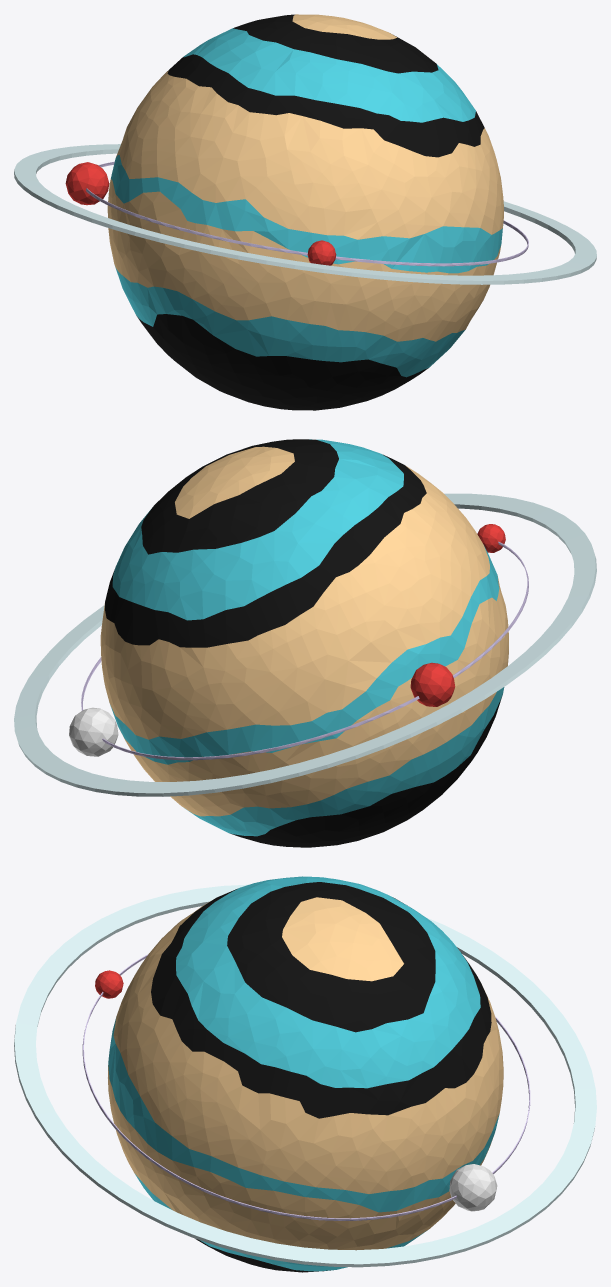
The model's file is Planet_24.glb.
3 views of the same model, one above another, from view 1: azimuth 30°, elevation 25°; view 2: azimuth 150°, elevation 25°; view 3: azimuth 270°, elevation 25° (orthographic). The views are drawn at different scales.
Parts seen in each view (by area): view 1: Planet_24; view 2: Planet_24; view 3: Planet_24.
Part boxes in pixels (bbox=[...]): Planet_24: bbox=[14, 14, 596, 410]; Planet_24: bbox=[14, 439, 596, 847]; Planet_24: bbox=[14, 876, 596, 1272].
Size of the model in its own units: 28.82 by 19.99 by 29.45.
Materials: 1 (1 with a texture image).
